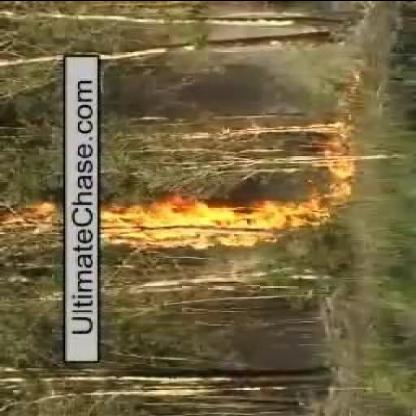foggia-v2-map80-epoch100 - v1 4323: (102, 202, 283, 244)
